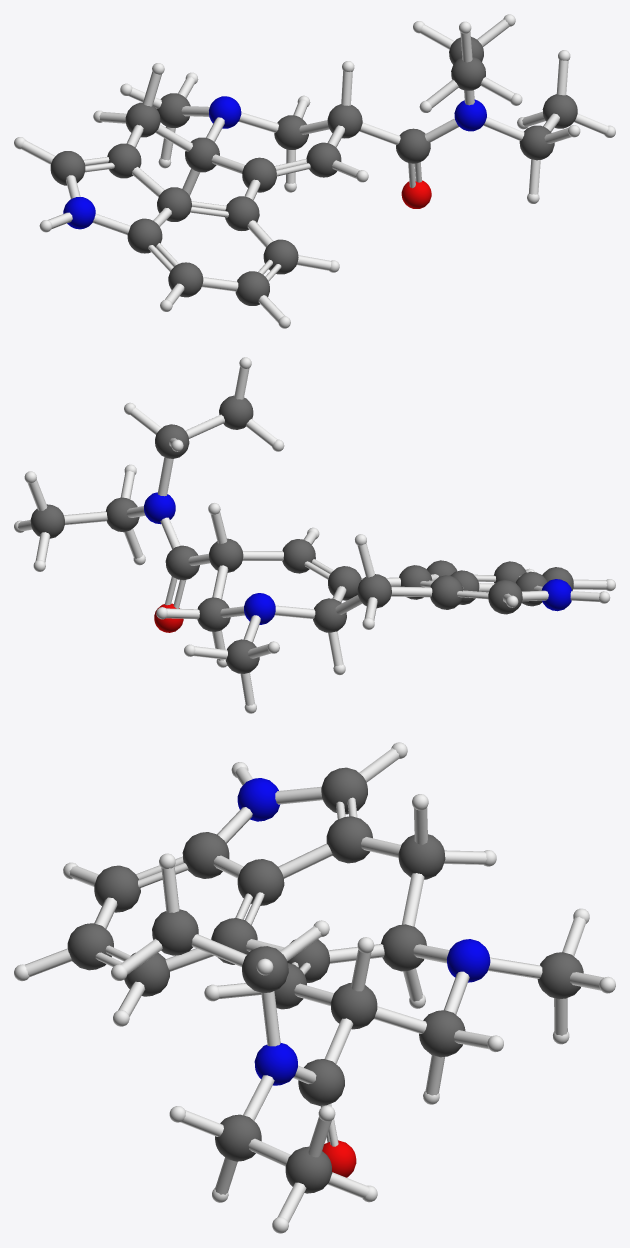
The picture shows the model from 3 angles, top to bottom: view 1: azimuth 30°, elevation 25°; view 2: azimuth 150°, elevation 25°; view 3: azimuth 270°, elevation 25°; orthographic projection. The views are drawn at different scales.
Visible parts, largest first — view 1: ac; view 2: ac; view 3: ac.
Boxes of the visible parts, bbox=[...] form: ac: bbox=[14, 14, 615, 328]; ac: bbox=[14, 357, 615, 713]; ac: bbox=[14, 742, 615, 1233].
Size of the model in its own units: 1054 by 403 by 698.
